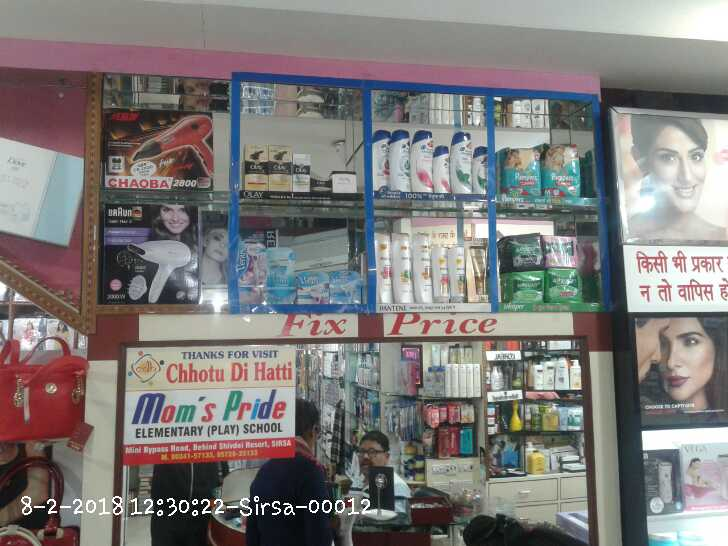venus: (264, 247, 296, 308), (240, 242, 264, 308), (329, 269, 365, 302), (301, 272, 329, 302)
